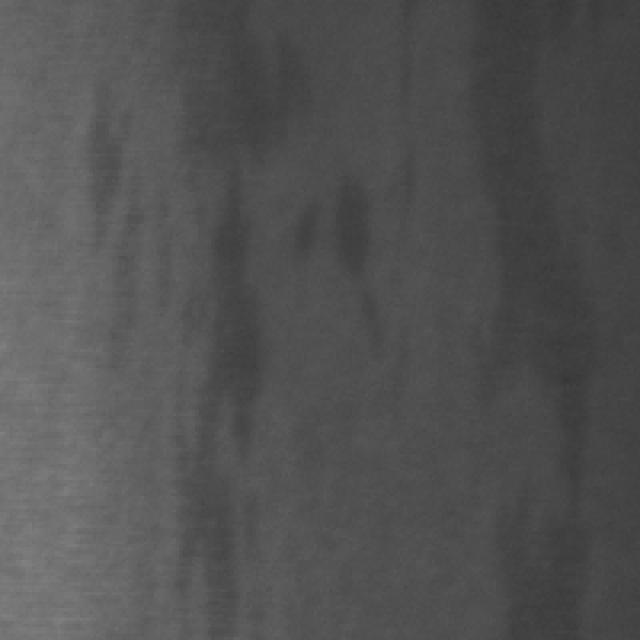inclusion: (436, 0, 640, 640), (184, 182, 262, 638), (158, 0, 324, 169), (56, 62, 144, 248), (319, 160, 389, 286)
